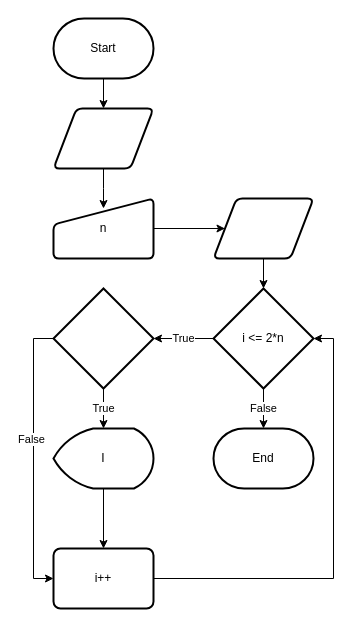
The diagram is 359 pixels wide and 626 high, and some of its shapes have lost their labels. Here are the shapes that lost their labels. From the top down, the box of each, then its label:
(52, 107, 154, 169): int n
(212, 197, 314, 259): int i = 1
(52, 287, 154, 389): i mod 2 == 0
